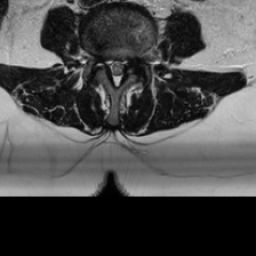CCS_normal: (113, 56, 120, 91)
LFS_severe_stenosis: (130, 49, 138, 69)
LLS_severe_stenosis: (121, 54, 130, 77)
RFS_severe_stenosis: (95, 48, 104, 69)
RLS_severe_stenosis: (104, 54, 112, 81)
